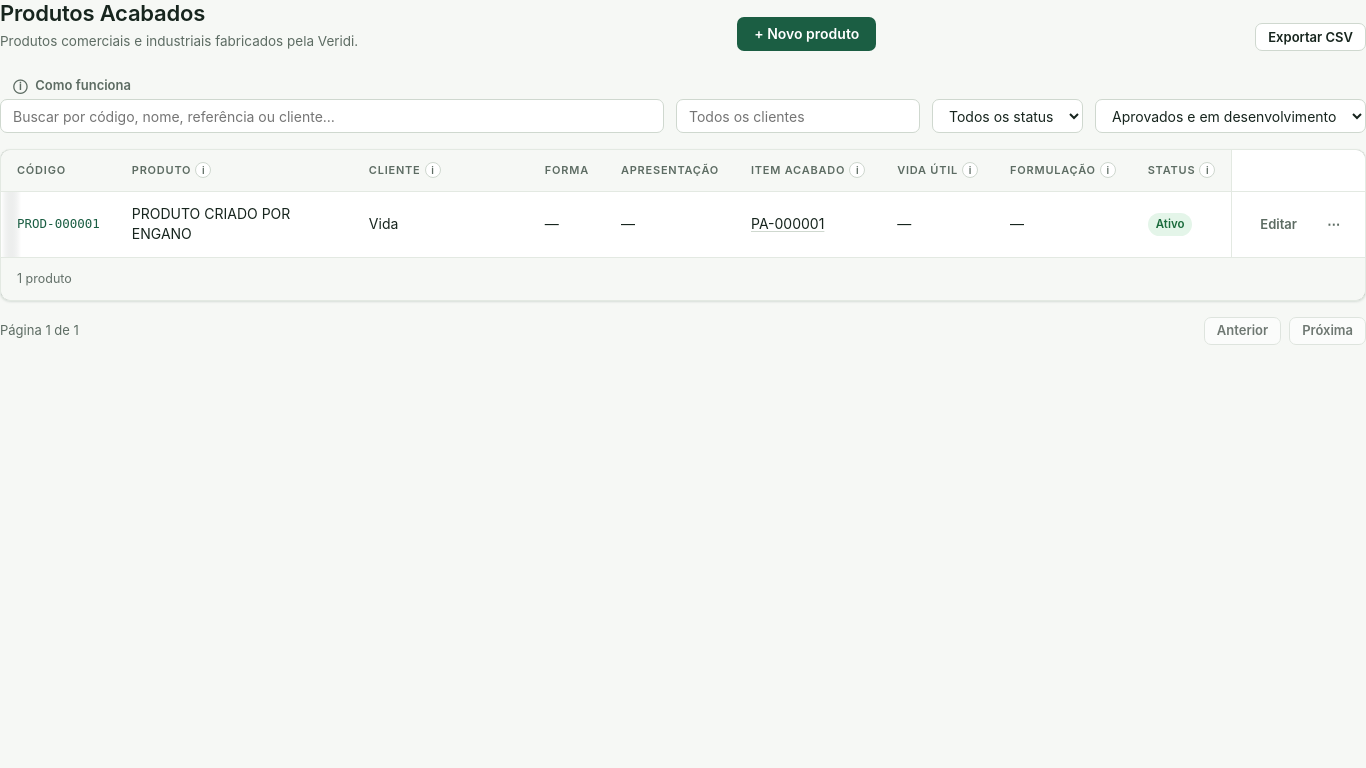
Administrador › bloqueado pelo uso do PA: o motivo vem com o código dele, sem excluir — a saída abre o Inativar de sempre
Expected: the text "PROD-000001" is shown, [1,192,116,257]
What coordinates should you click on to do the following:
click the button named "Mais ações de PROD-000001"
I would click on:
 (1334, 224)
Its box is [1318,210,1349,238].
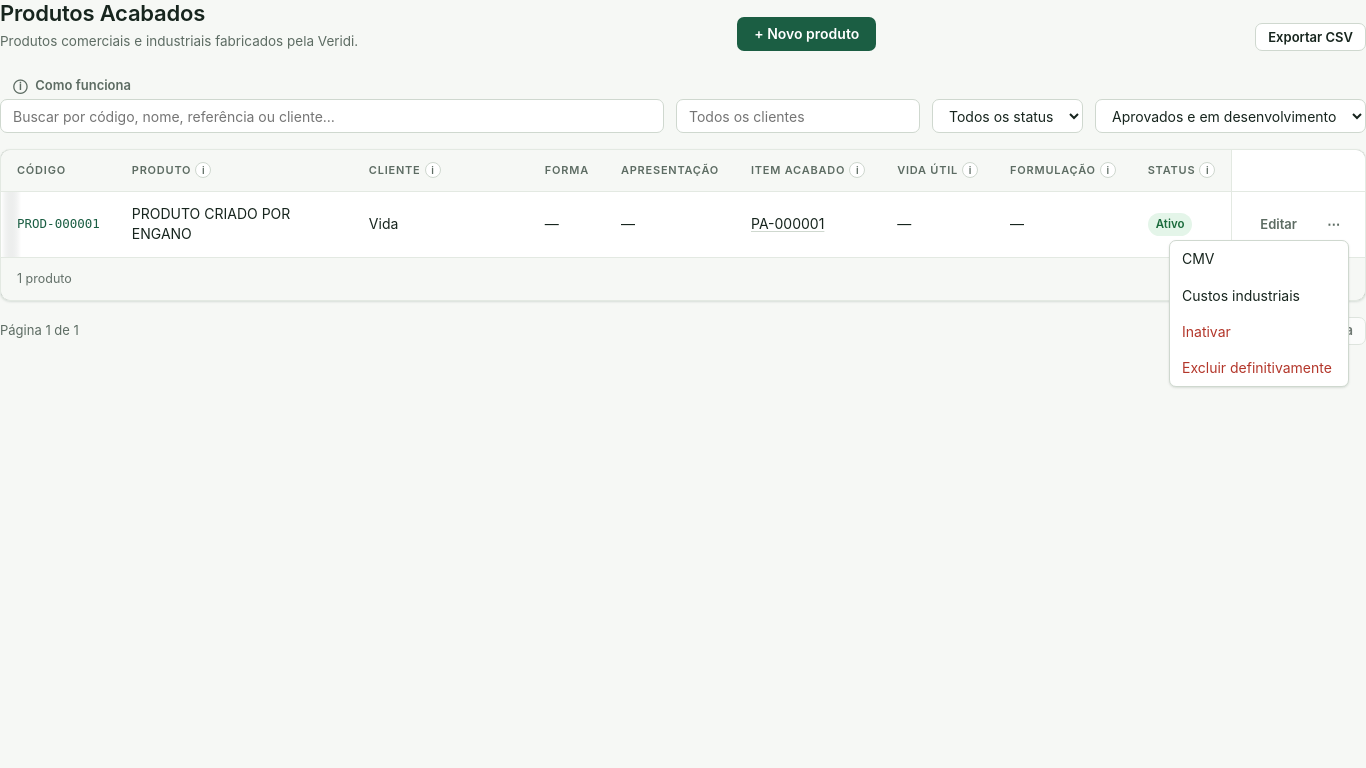
What coordinates should you click on to do the following:
click the menu item "Excluir definitivamente"
I would click on:
 (1259, 368)
Its box is [1170,350,1348,386].
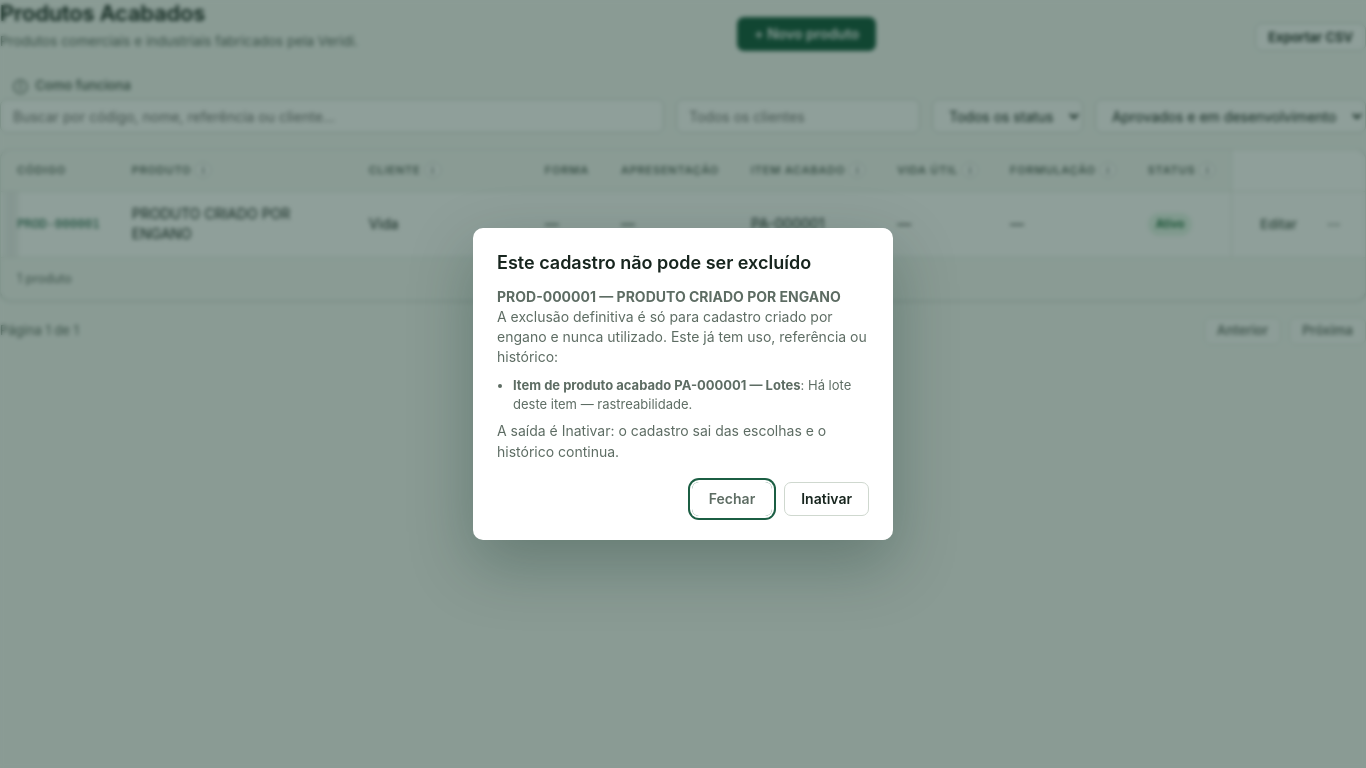
Expected: the dialog does not show "item órfão", [473,228,893,540]
Now the text "Item de produto acabado PA-000001 — Lotes" is shown, box [513,377,801,393]
Now the menu item "Excluir definitivamente" is gone
What coordinates should you click on to do the following:
click the button "Inativar"
I would click on:
 (827, 499)
Its box is [784,482,869,516].
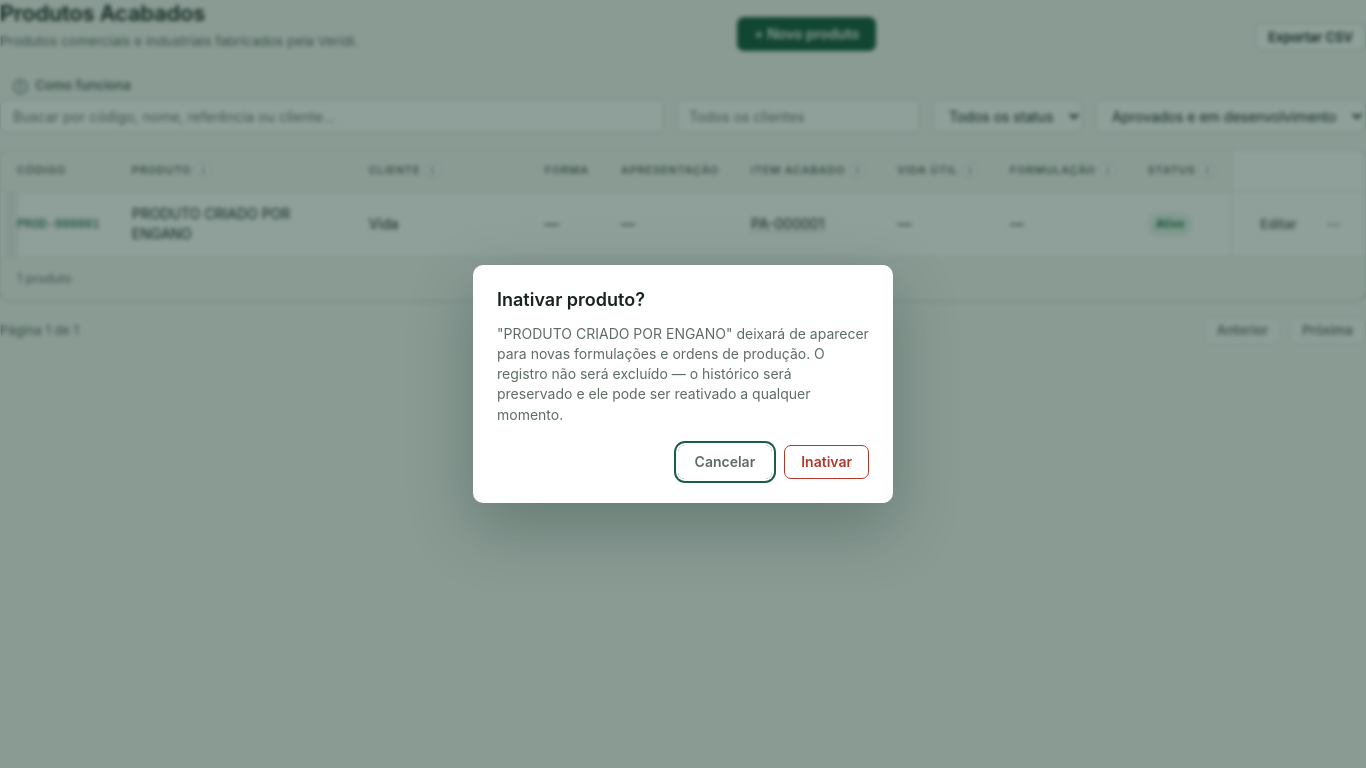
Now the heading "Inativar produto?" is shown, box [497,289,645,310]
